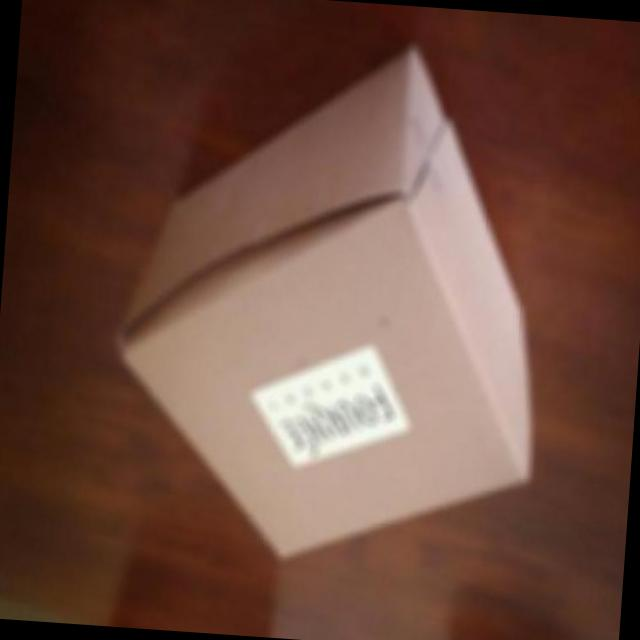box: (88, 48, 574, 571)
